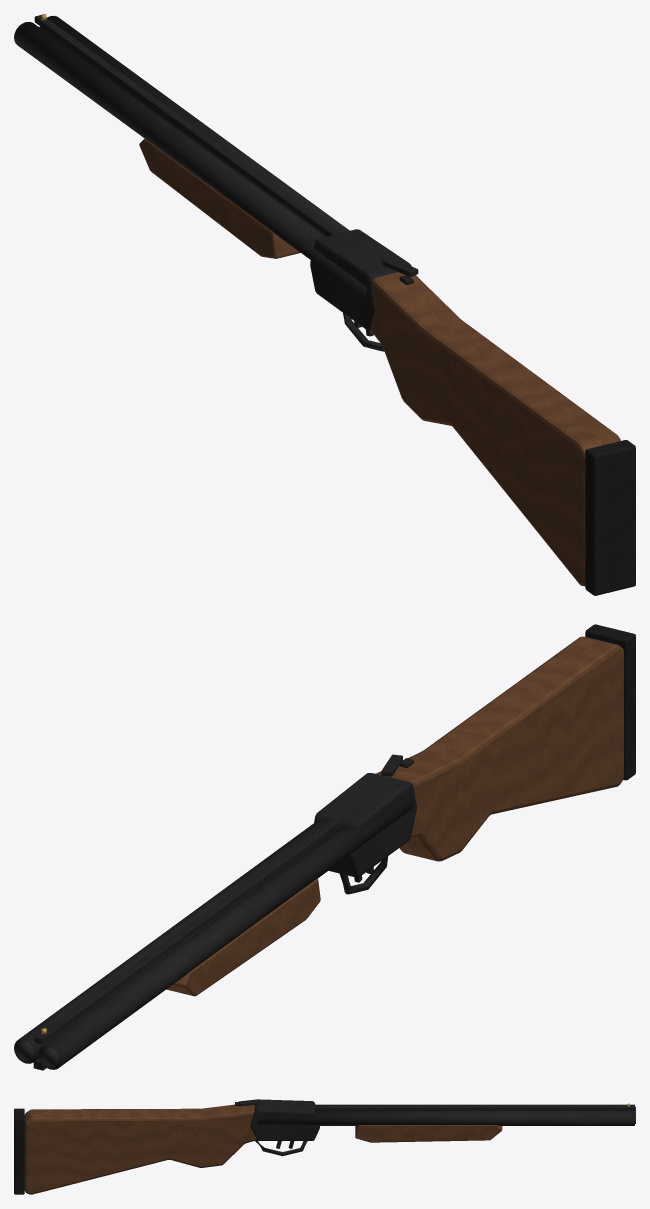
The model's file is shotgun_double.glb.
3 views of the same model, one above another, from view 1: azimuth 30°, elevation 25°; view 2: azimuth 150°, elevation 25°; view 3: azimuth 270°, elevation 25° (orthographic). The views are drawn at different scales.
Visible parts, largest first — view 1: stock, barrel0, pad, action, forend, rib, barrel1; view 2: stock, barrel0, action, forend, rib, barrel1, pad; view 3: stock, barrel1, forend, action, rib, barrel0, pad, guard.
Boxes of the visible parts, x1,y1,x2,y2 form: stock: [371, 272, 620, 586]; barrel0: [14, 22, 366, 300]; pad: [585, 440, 635, 595]; action: [310, 229, 411, 330]; forend: [139, 138, 300, 258]; rib: [34, 15, 340, 236]; barrel1: [39, 15, 349, 236]; stock: [376, 636, 623, 861]; barrel0: [38, 796, 413, 1069]; action: [314, 773, 416, 877]; forend: [166, 878, 320, 996]; rib: [34, 818, 340, 1044]; barrel1: [14, 820, 332, 1063]; pad: [585, 624, 635, 780]; stock: [24, 1104, 256, 1194]; barrel1: [257, 1111, 634, 1125]; forend: [355, 1125, 502, 1142]; action: [250, 1099, 319, 1140]; rib: [313, 1105, 634, 1110]; barrel0: [315, 1104, 634, 1111]; pad: [14, 1108, 24, 1194]; guard: [255, 1140, 307, 1156].
Bounding box in the file's own units: 0.048 × 0.1577 × 0.9885.
Materials: 5 (4 with a texture image).
